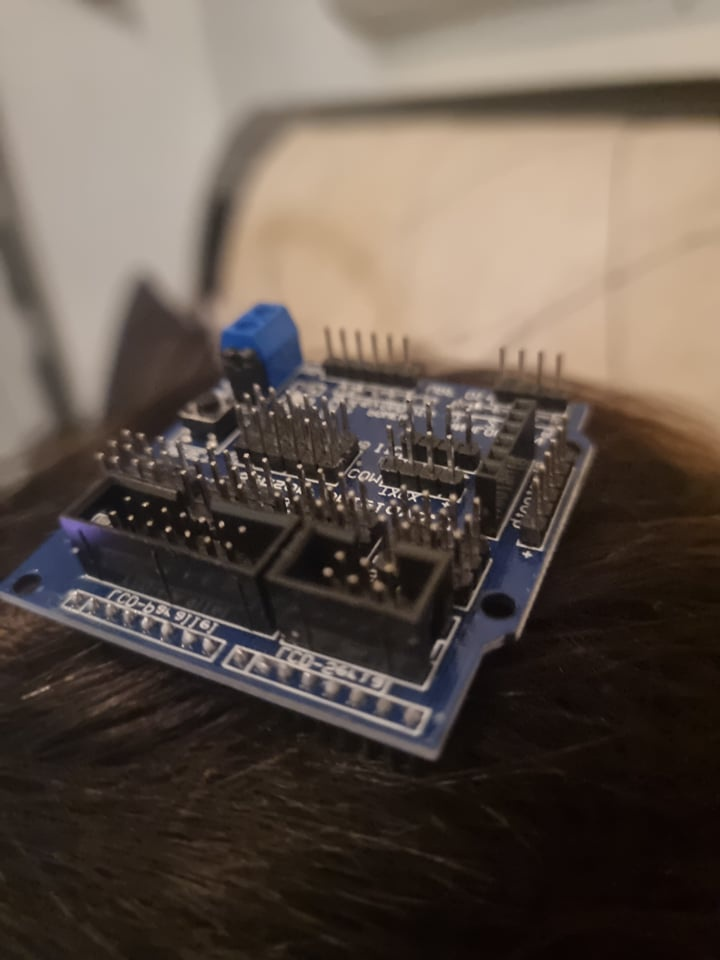5V EXPANSION: (0, 303, 600, 763)
